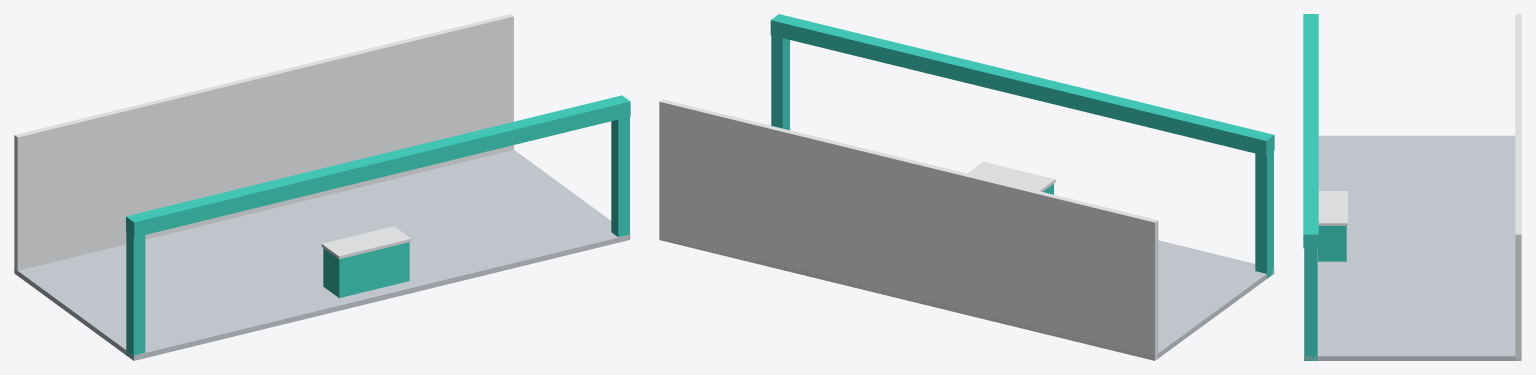
3 views of the same model, side by side, from view 1: azimuth 30°, elevation 25°; view 2: azimuth 150°, elevation 25°; view 3: azimuth 270°, elevation 25° (orthographic). The views are drawn at different scales.
Parts seen in each view (by area): view 1: Exhibition Booth Concept; view 2: Exhibition Booth Concept; view 3: Exhibition Booth Concept.
Part boxes in pixels (x1,y1,x2,y2): Exhibition Booth Concept: (14,14,630,360); Exhibition Booth Concept: (659,14,1274,360); Exhibition Booth Concept: (1303,14,1521,360).
Bounding box in the file's own units: 12 × 3.2 × 5.02.
